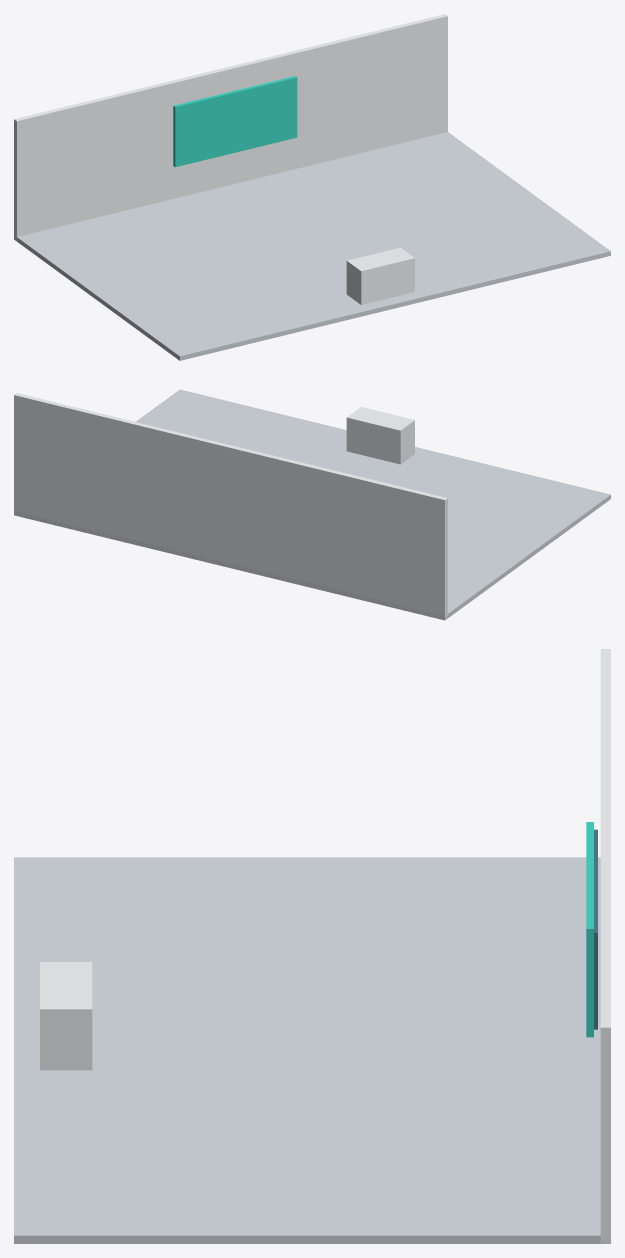
The picture shows the model from 3 angles, top to bottom: view 1: azimuth 30°, elevation 25°; view 2: azimuth 150°, elevation 25°; view 3: azimuth 270°, elevation 25°; orthographic projection. The views are drawn at different scales.
Visible parts, largest first — view 1: Exhibition Booth Concept; view 2: Exhibition Booth Concept; view 3: Exhibition Booth Concept.
Boxes of the visible parts, x1,y1,x2,y2 form: Exhibition Booth Concept: (14,14,610,360); Exhibition Booth Concept: (14,389,610,620); Exhibition Booth Concept: (14,649,610,1243).
Size of the model in its own units: 12 by 3.2 by 8.
